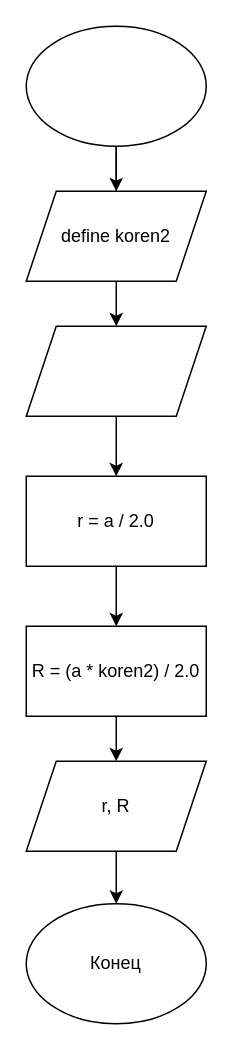
This 233x1050 diagram has some shape labels left out. Here are the shapes that lost their labels. From the top down, the centre of each, then its label:
At point (115, 85): "Начало".
At point (115, 370): "a, r, R,".
